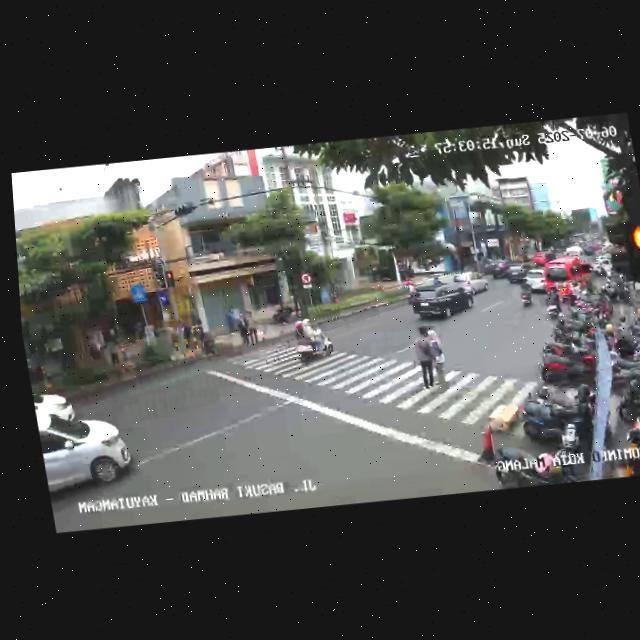car: (36, 412, 139, 505), (406, 277, 477, 323), (540, 255, 595, 301), (30, 381, 79, 427), (451, 266, 492, 296), (500, 262, 529, 285)
motorcycle: (284, 316, 338, 365), (514, 277, 536, 310), (543, 286, 563, 321)
person: (410, 324, 439, 391), (425, 325, 450, 392), (244, 310, 262, 347), (234, 312, 250, 347)
